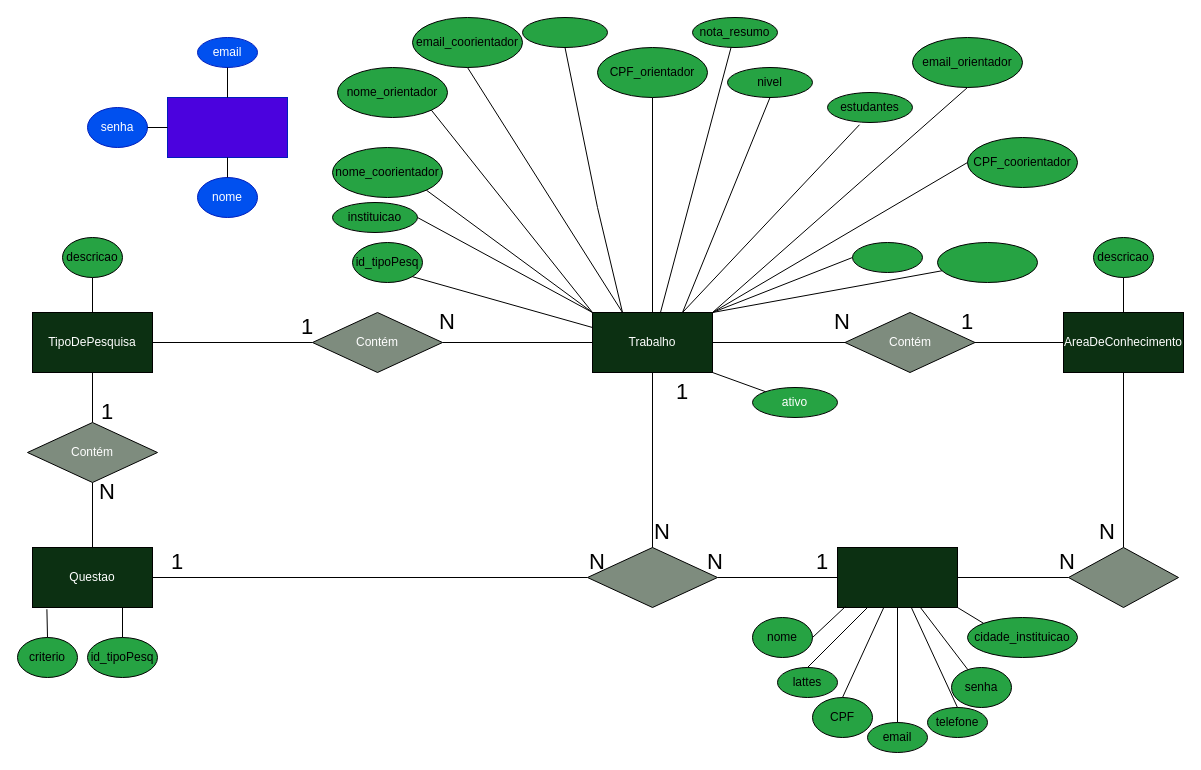
This 1201x770 diagram has some shape labels left out. The shapes that lost their labels are listed below. From the top down, each one's box as (x1, y1, x2, y2) in pixels, then its label:
(522, 16, 608, 48): titulo
(166, 96, 288, 158): Administrador
(852, 242, 922, 272): id_Area
(936, 242, 1038, 282): descricaoMDIS
(586, 546, 718, 608): Avaliacao
(836, 546, 958, 608): Avaliador
(1068, 546, 1178, 608): Avaliador_Area
